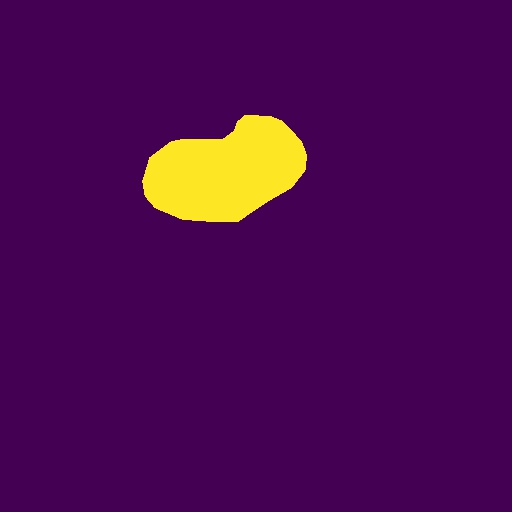Gliomia_tumour: (142, 115, 307, 222)
